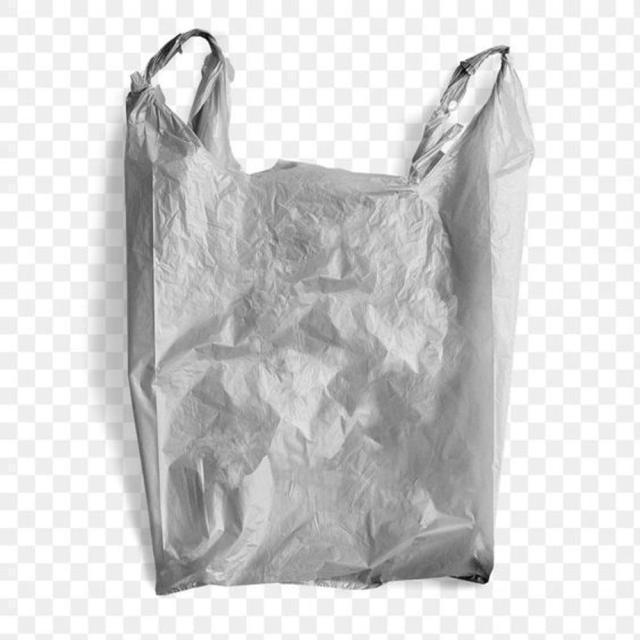Plastic_Bag: (118, 22, 512, 592)
